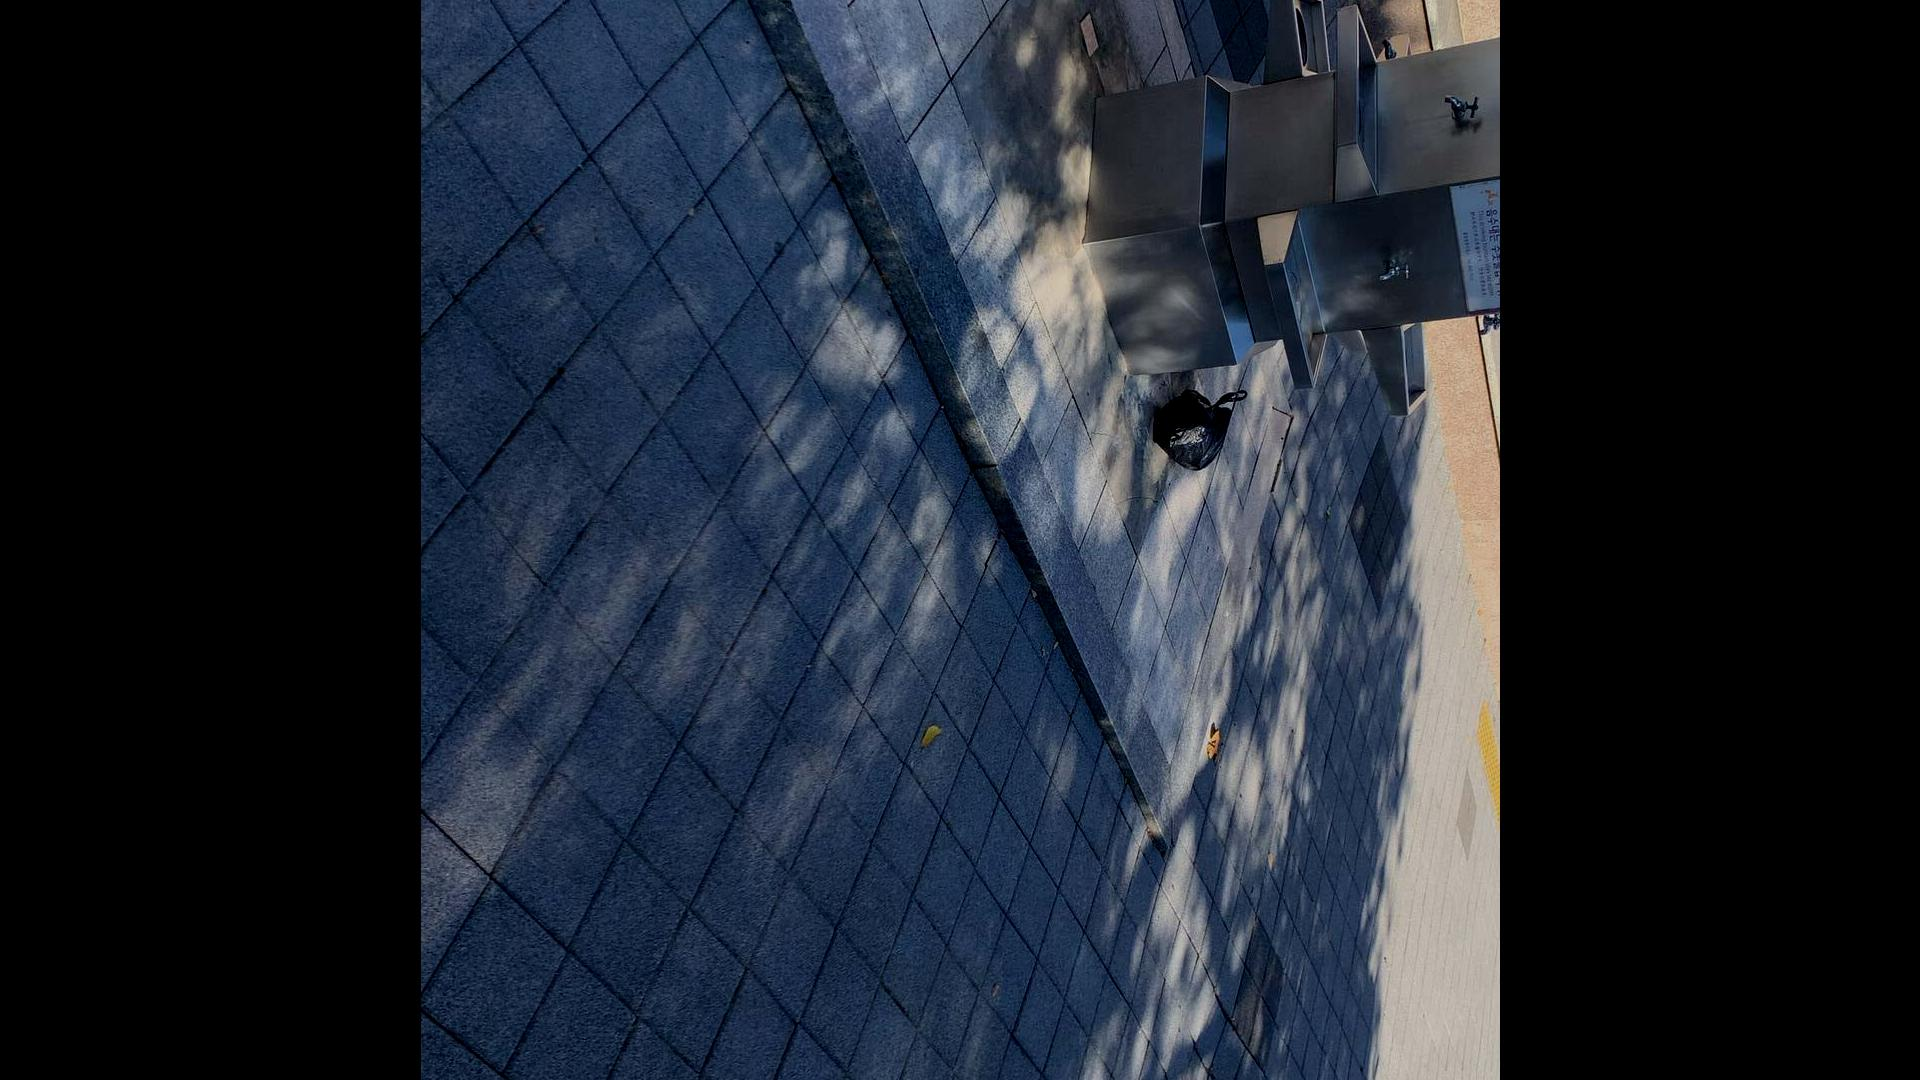black_bag: (1149, 378, 1254, 477)
